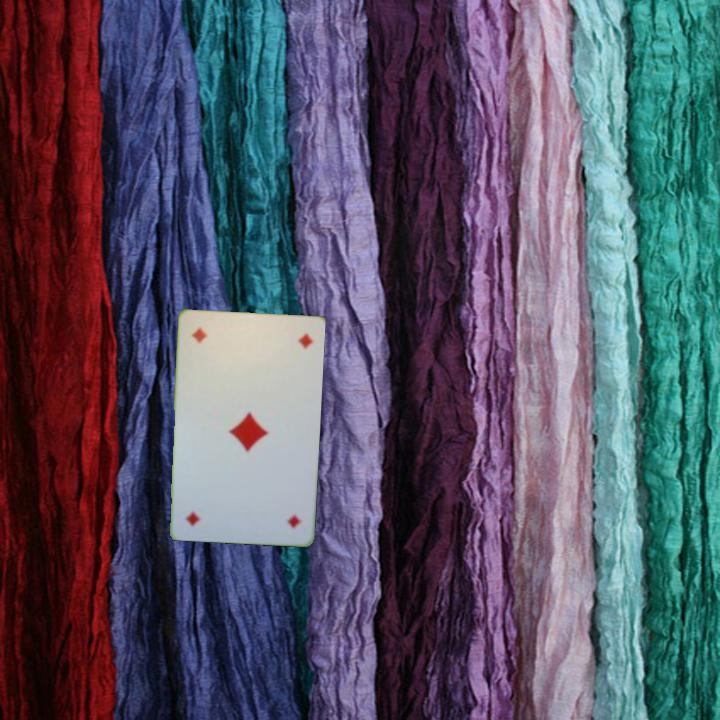d_a.png: (184, 319, 254, 380), (238, 475, 307, 536)
